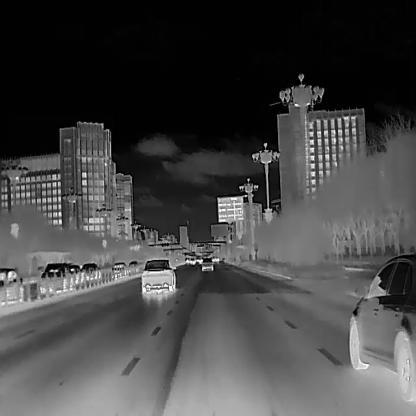car: (348, 253, 415, 403), (141, 259, 176, 293), (39, 261, 71, 291), (0, 267, 24, 305), (79, 262, 102, 283), (67, 263, 81, 285), (111, 262, 126, 275), (202, 257, 213, 271), (127, 260, 139, 271), (190, 258, 196, 264)
